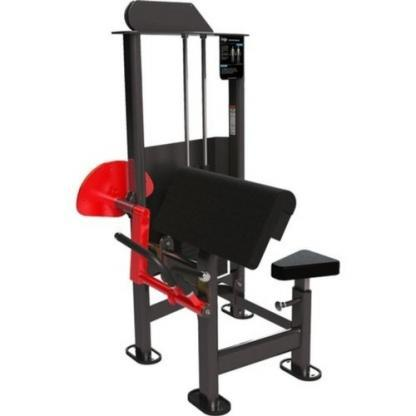arm curl machine: (76, 1, 341, 415)
